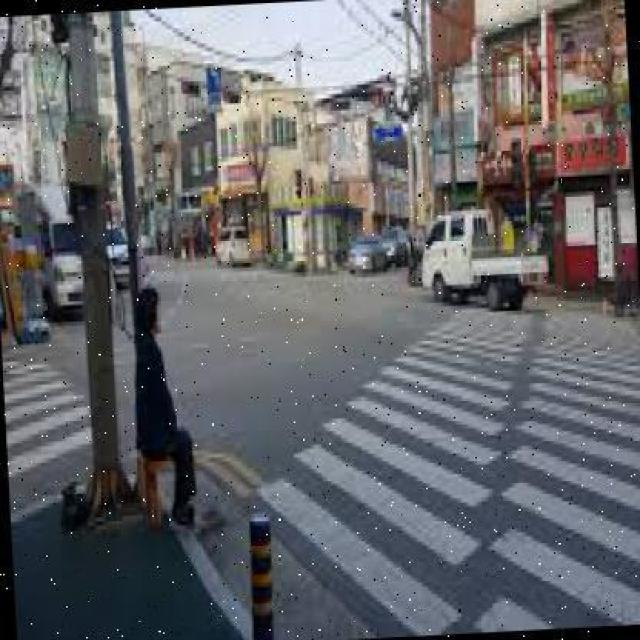-: (132, 286, 202, 540)
